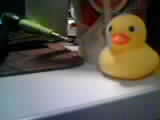duck: (97, 6, 148, 85)
